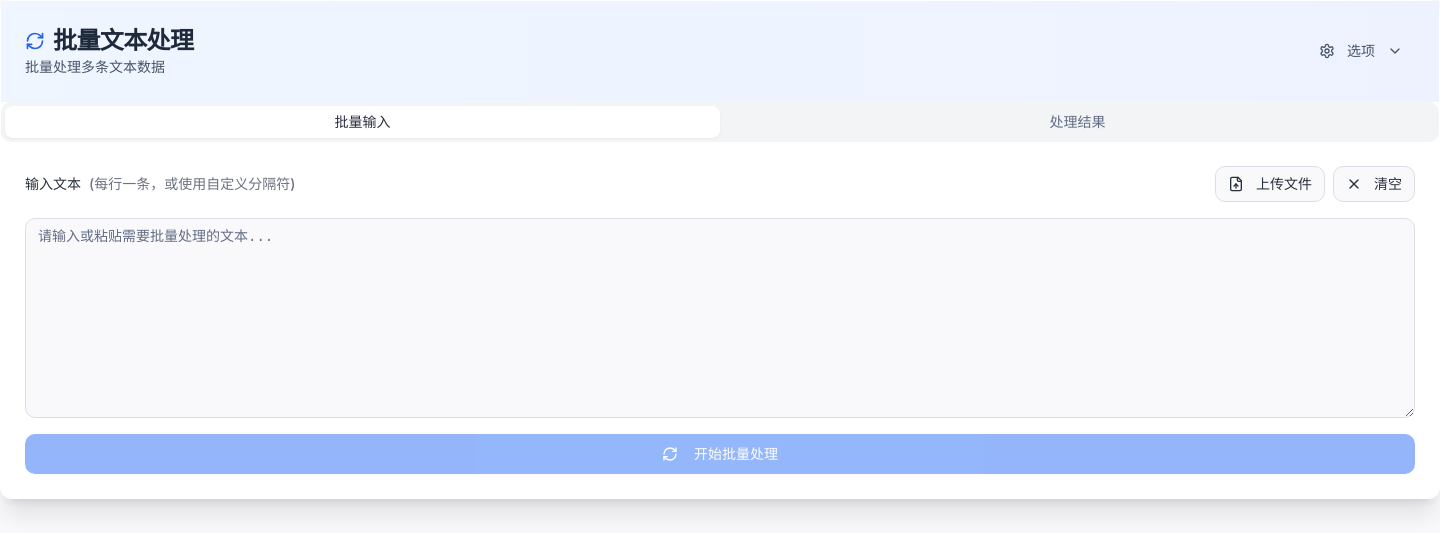
Test: BatchProcessor Component › 应该正确清空输入
In the text box: x=720, y=318 [25,218,1415,418], type "test text"
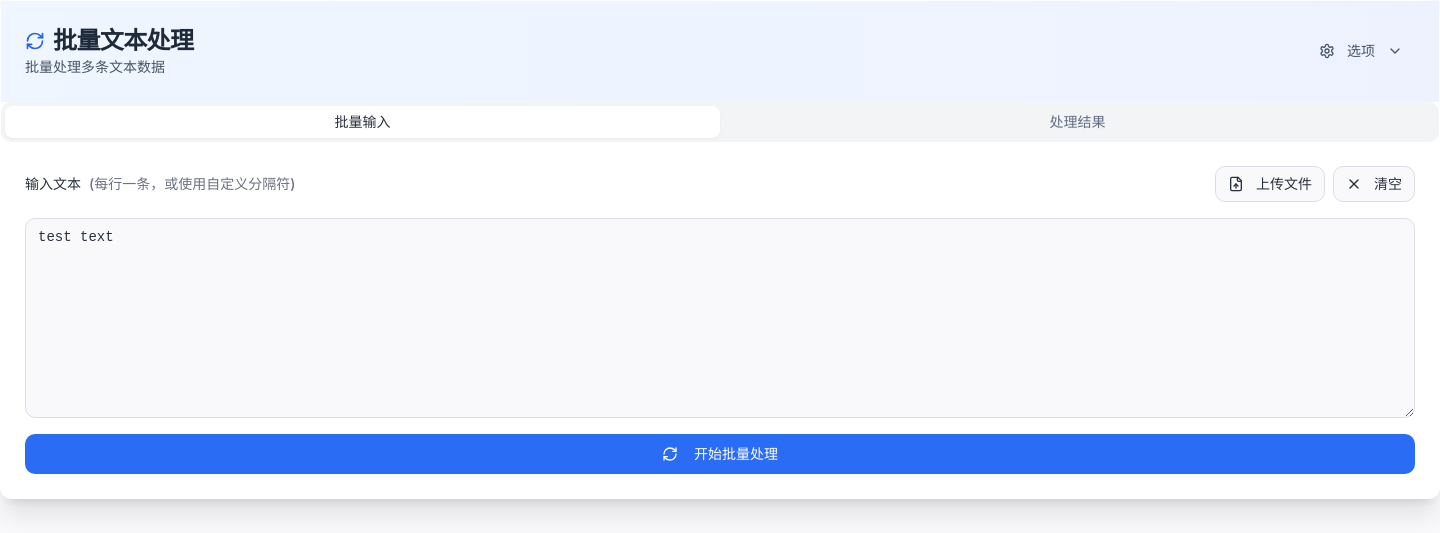
Click the button "清空": x=1374, y=184 [1333,166,1415,202]
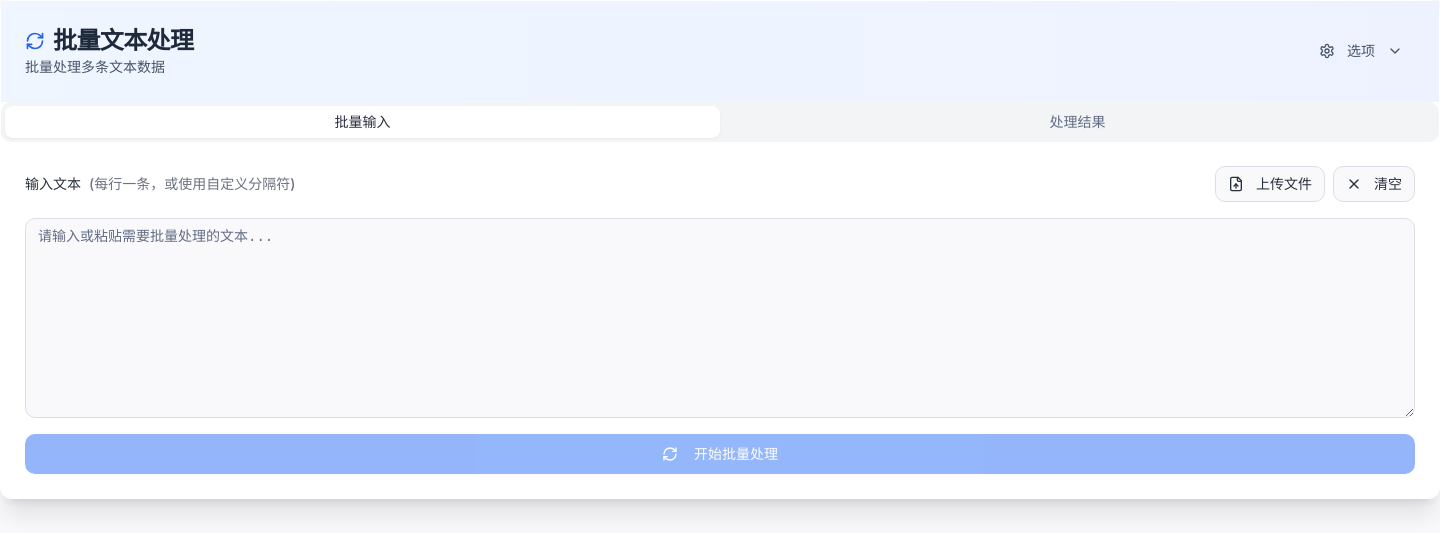
Check: the text box is empty, box [25,218,1415,418]
